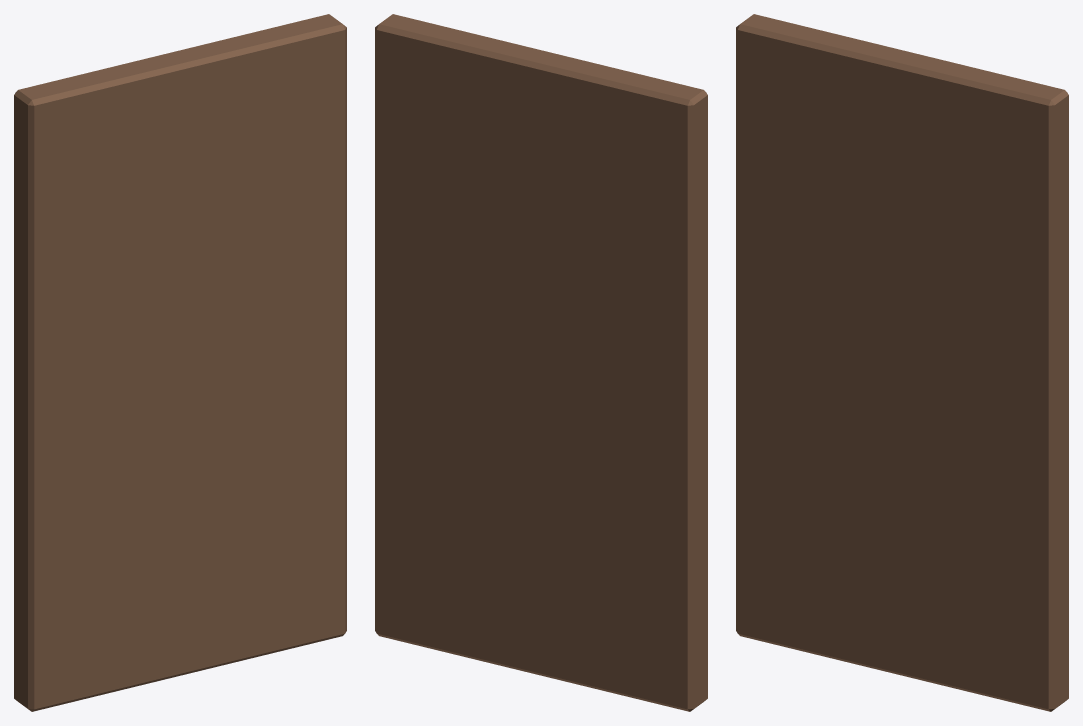
The model's file is door.glb.
3 renders of one model, left to right at view 1: azimuth 30°, elevation 25°; view 2: azimuth 150°, elevation 25°; view 3: azimuth 330°, elevation 25°, orthographic.
Visible parts, largest first — view 1: door; view 2: door; view 3: door.
Boxes of the visible parts, x1,y1,x2,y2 form: door: [14, 14, 346, 711]; door: [375, 14, 707, 711]; door: [736, 14, 1068, 711].
Size of the model in its own units: 1.2 by 2.2 by 0.12.
